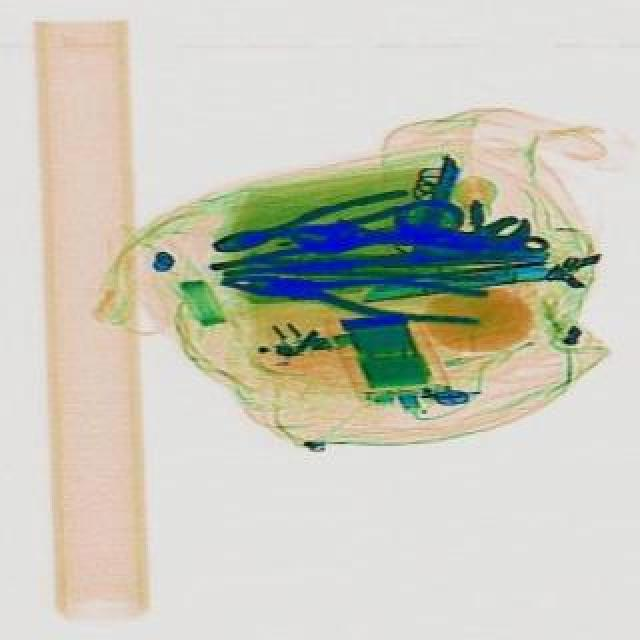wrench: (224, 264, 494, 332), (212, 188, 416, 264)
